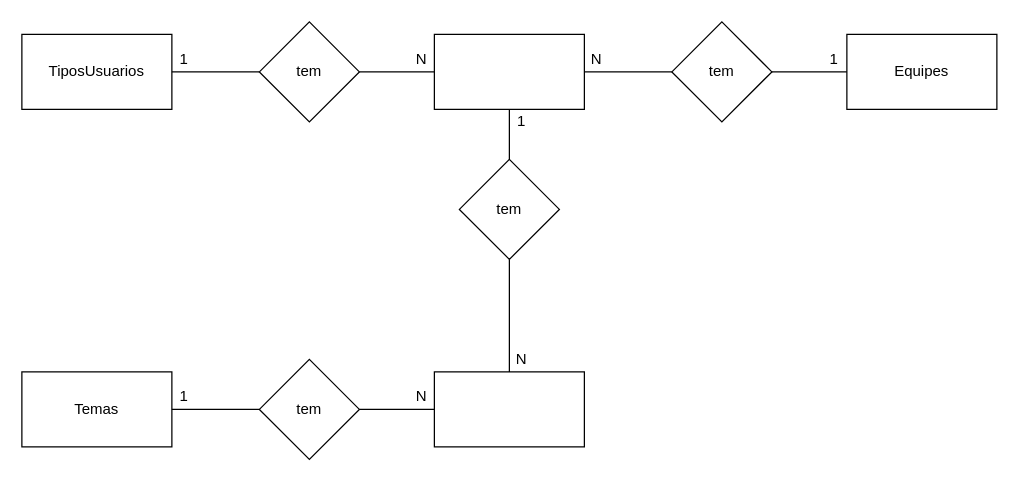
This 1019x481 diagram has some shape labels left out. Each missing label, with the box of its shape:
Projetos: (433, 371, 584, 447)
Usuarios: (433, 33, 584, 109)
